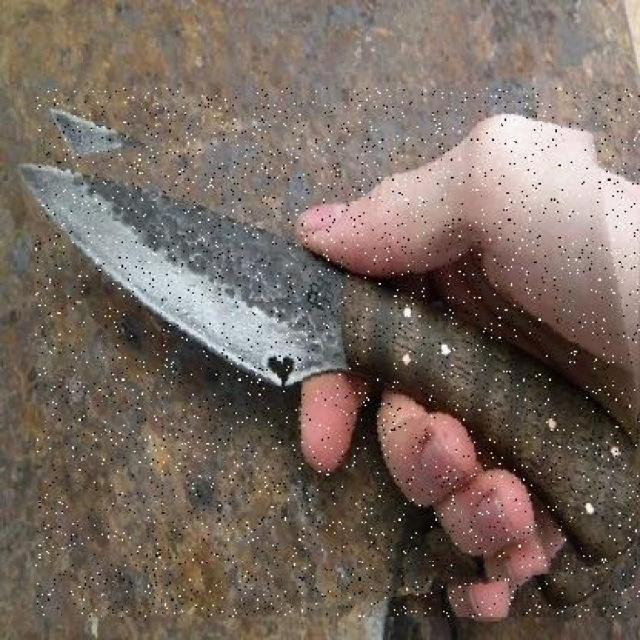knife: (35, 88, 640, 617)
